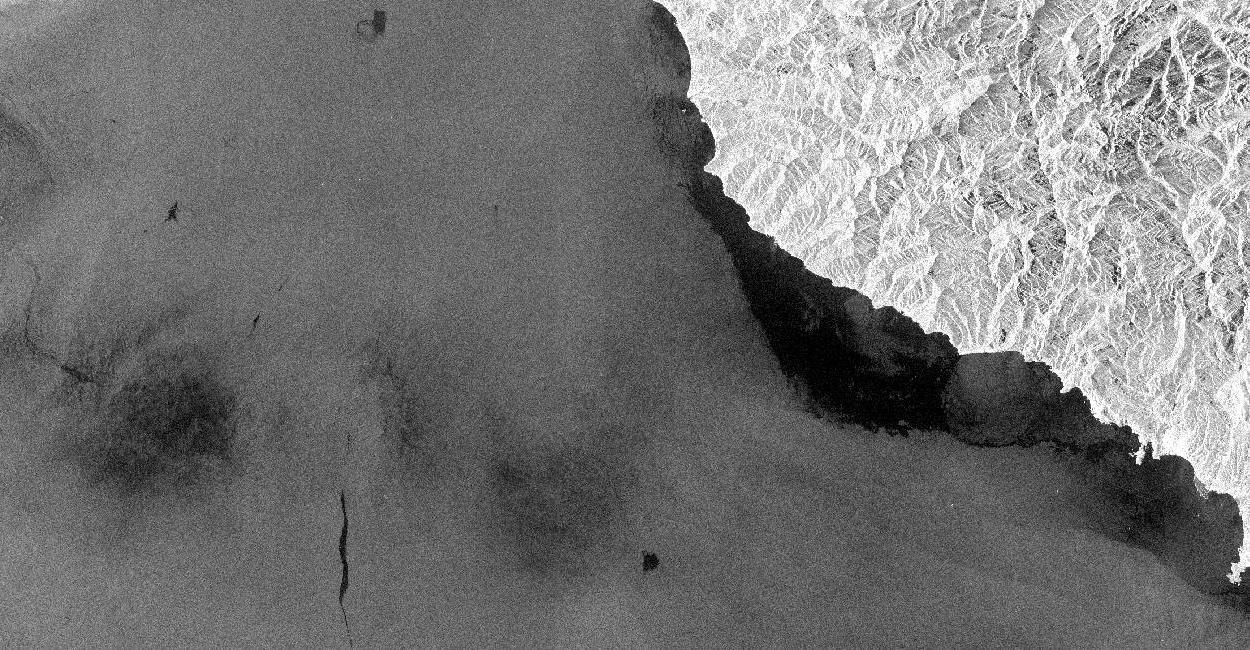Look-alike: (60, 177, 1192, 542)
Oil Spill: (336, 488, 350, 626), (352, 6, 390, 44), (640, 548, 660, 576), (362, 26, 371, 31)
